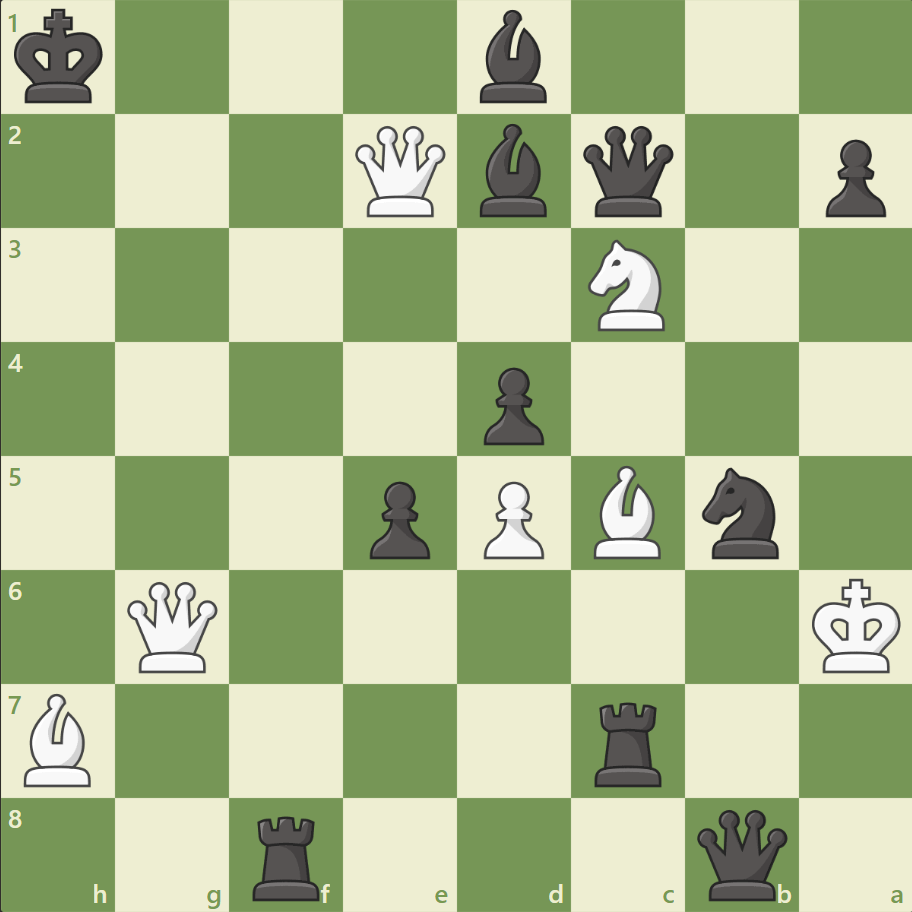B: (17, 687, 101, 790), (585, 460, 669, 563)
K: (806, 571, 906, 679)
N: (579, 234, 676, 337)
P: (474, 473, 549, 564)
Q: (124, 576, 223, 676), (351, 122, 450, 222)
b: (471, 6, 555, 109), (471, 120, 555, 222)
k: (11, 4, 111, 112)
n: (692, 461, 789, 564)
p: (474, 359, 549, 450), (361, 473, 435, 564), (815, 132, 889, 223)
q: (578, 122, 677, 222), (691, 804, 790, 903)
r: (246, 806, 329, 904), (587, 693, 670, 790)
